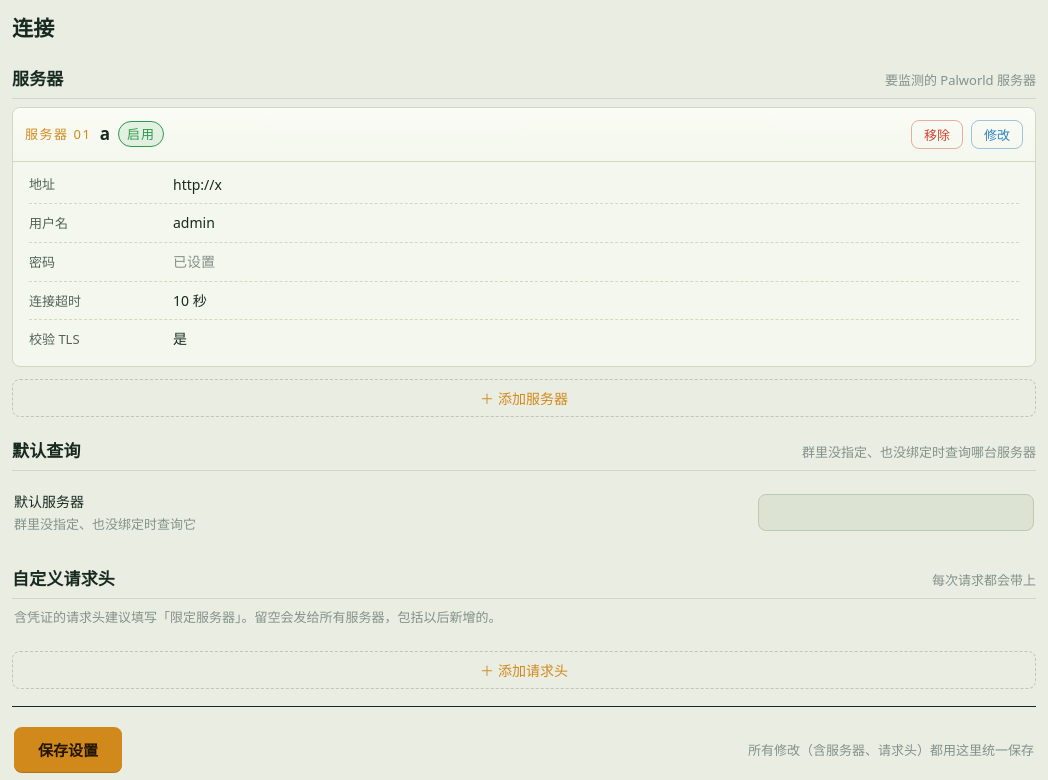
Scenario: SettingsPanel › 保存响应回传 config 时用其刷新 state(新行获得服务端 __row_id)
Click the button "保存设置".
click(68, 750)  # box [14,727,122,772]
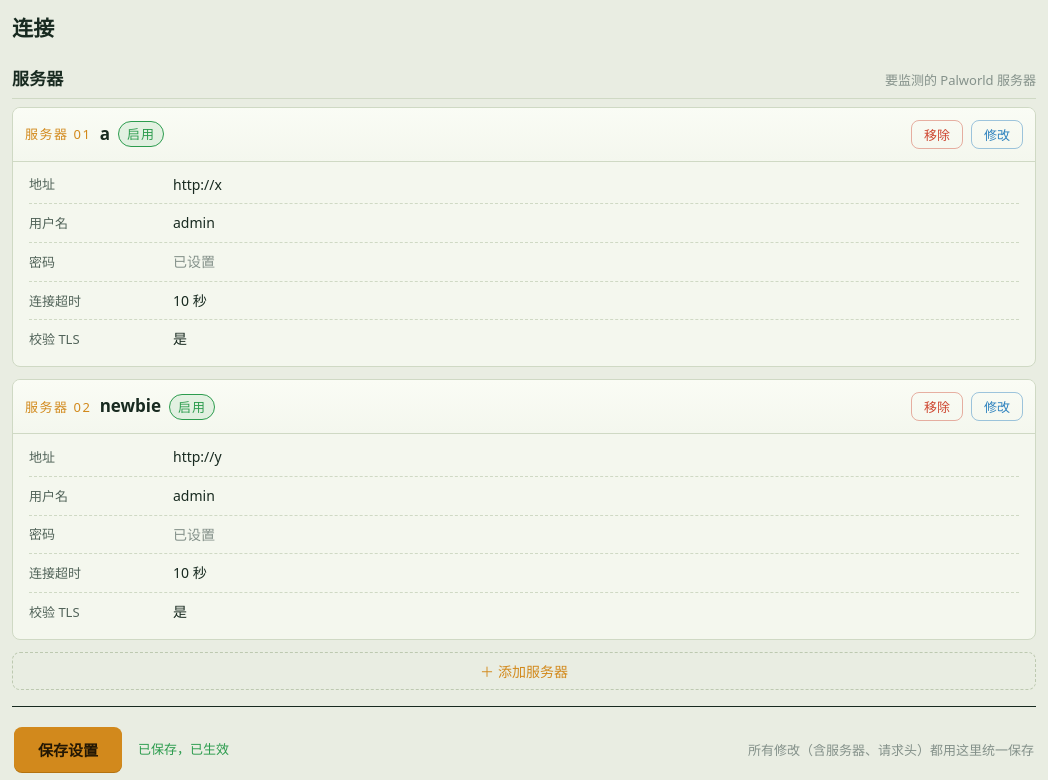
Result: the text "newbie" is shown at [100,394,161,420]
